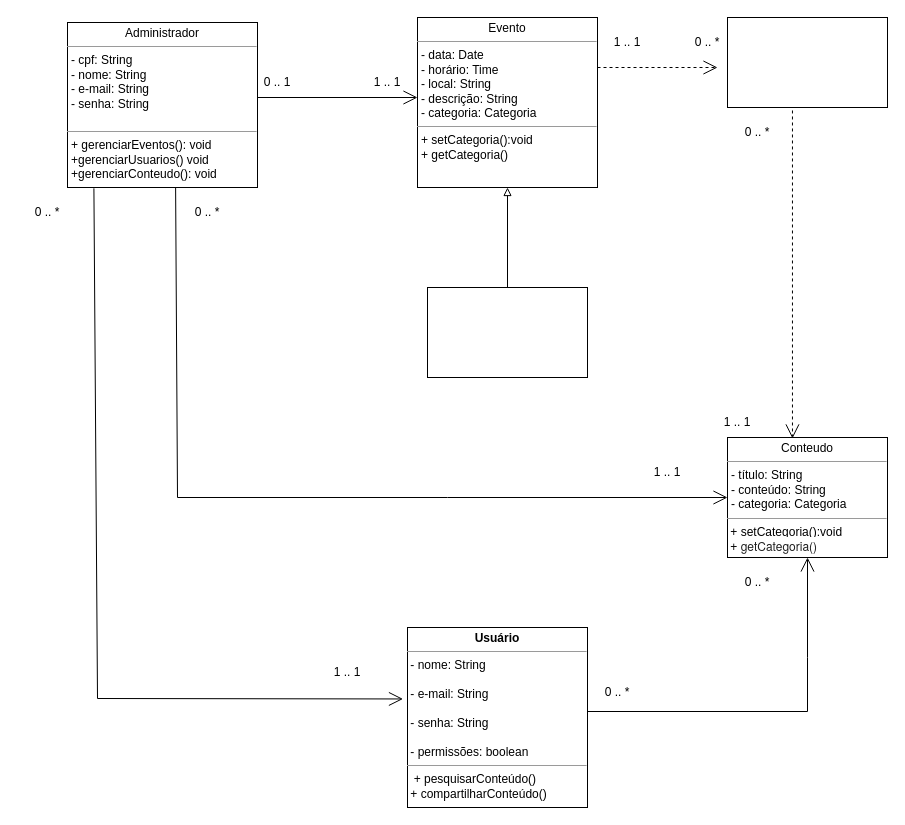
Some shapes in this 905 by 825 pixel diagram are drawn without their labels. Here are the shapes that lost their labels. From the top down, the centre of each, then its label:
At pixel 807 62: "Categoria - nome: String".
At pixel 507 332: "Atividade - evento: Evento".
